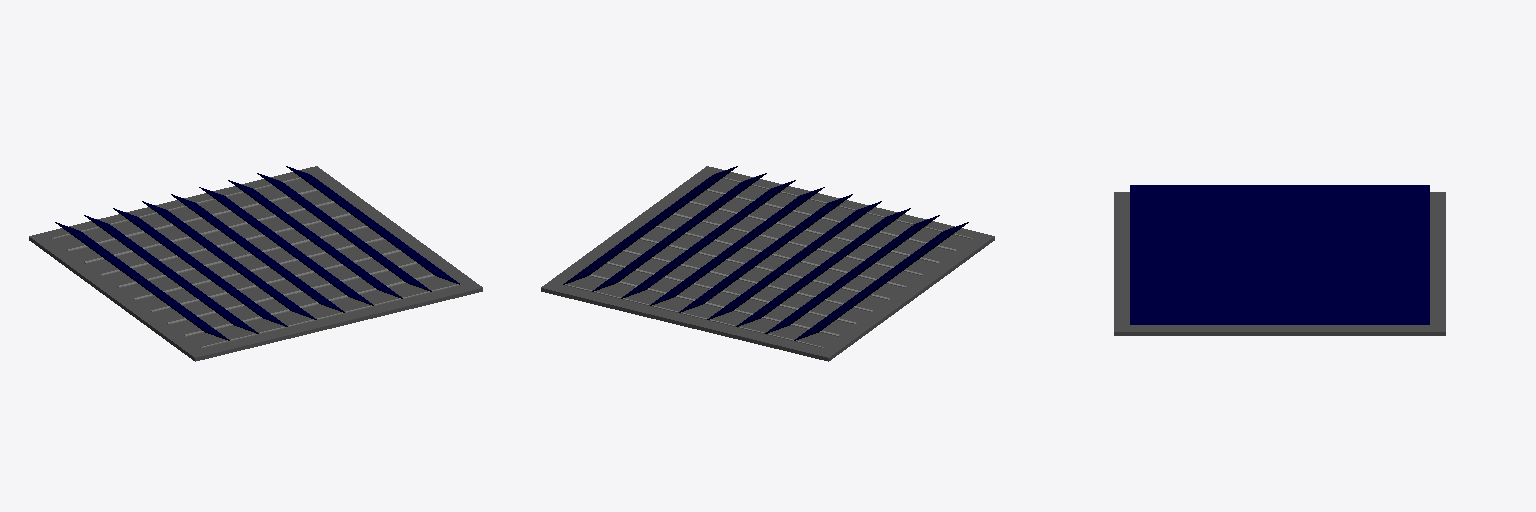
File: SolarPanels.obj
The picture shows the model from 3 angles: view 1: azimuth 30°, elevation 25°; view 2: azimuth 150°, elevation 25°; view 3: azimuth 270°, elevation 25°; orthographic projection.
Parts seen in each view (by area): view 1: Mesh_232_Mesh_232.001; view 2: Mesh_232_Mesh_232.001; view 3: Mesh_232_Mesh_232.001.
Part boxes in pixels (bbox=[...]): Mesh_232_Mesh_232.001: bbox=[29, 166, 482, 361]; Mesh_232_Mesh_232.001: bbox=[541, 166, 994, 361]; Mesh_232_Mesh_232.001: bbox=[1114, 185, 1445, 335].
Bounding box in the file's own units: 20 × 1.29 × 20.